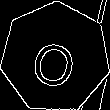O_N: (28, 27, 83, 88)
